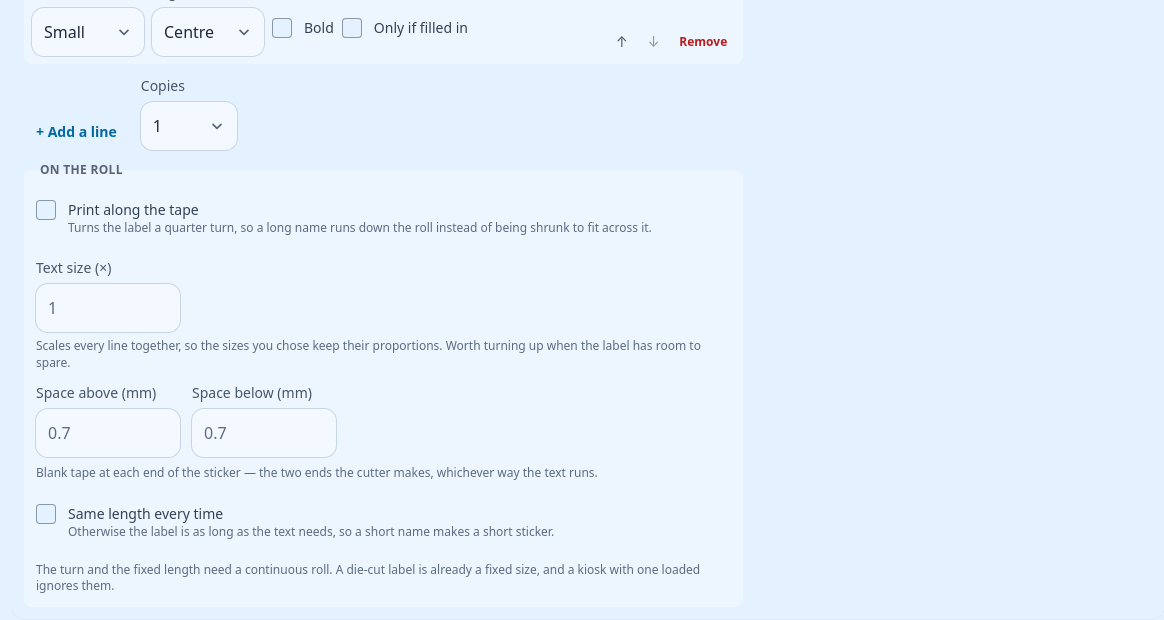
Test: a line that would print its caption alone › how the sticker sits on the roll › offers a length only once a fixed one has been asked for
The image size is (1164, 620).
(page scrolled)
What coordinates should you click on to do the following:
click the checkbox labelled "Same length every time"
I would click on:
 (46, 514)
Its box is [36,504,56,524].
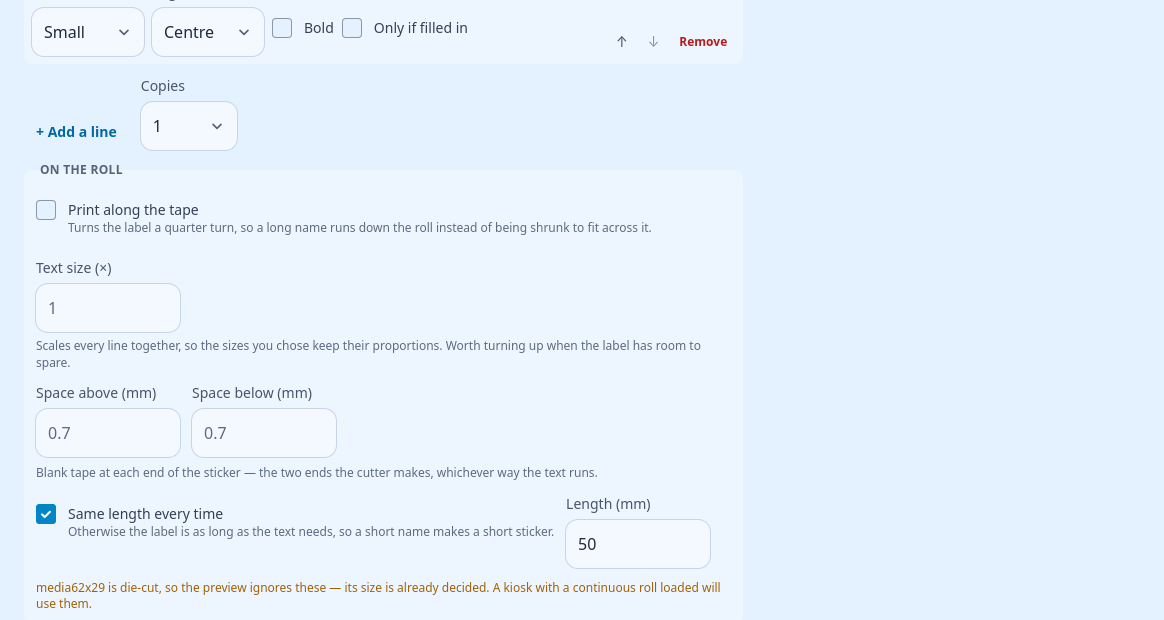
Expected: the number field labelled "Length (mm)" is shown, [566,520,710,568]
